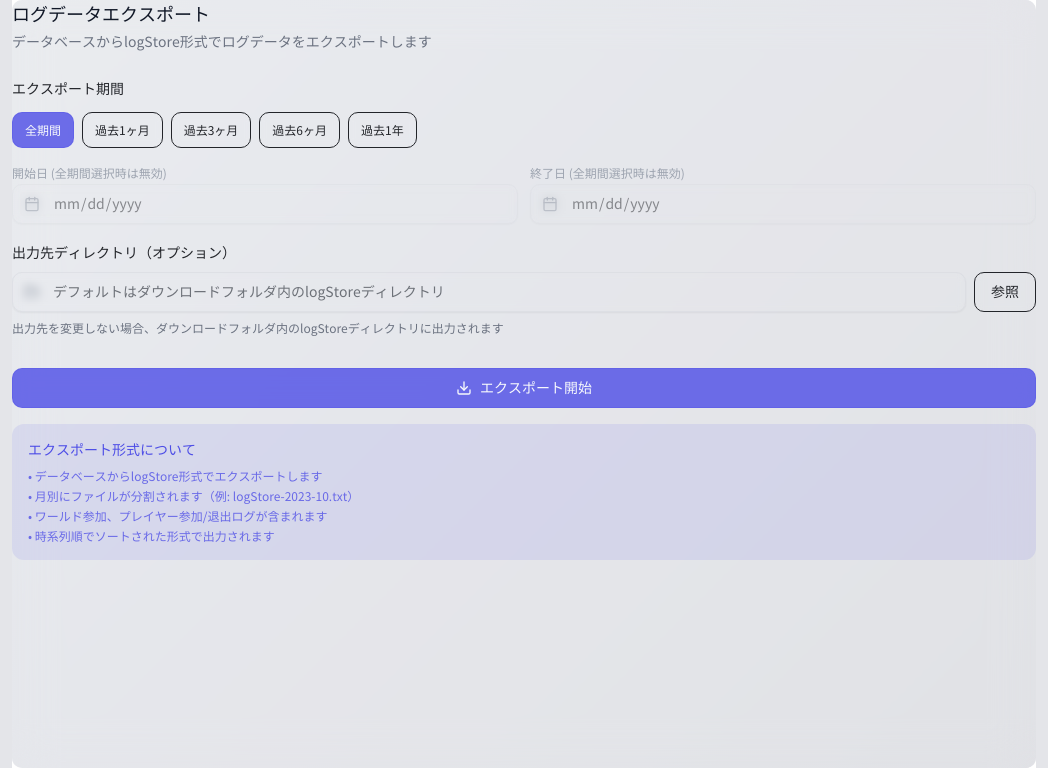
DataExport › 全期間ボタンを再クリックで日付入力が無効化される
Note:  まず期間を選択
Click the button "過去1ヶ月".
click(122, 130)  # box [82,112,163,148]
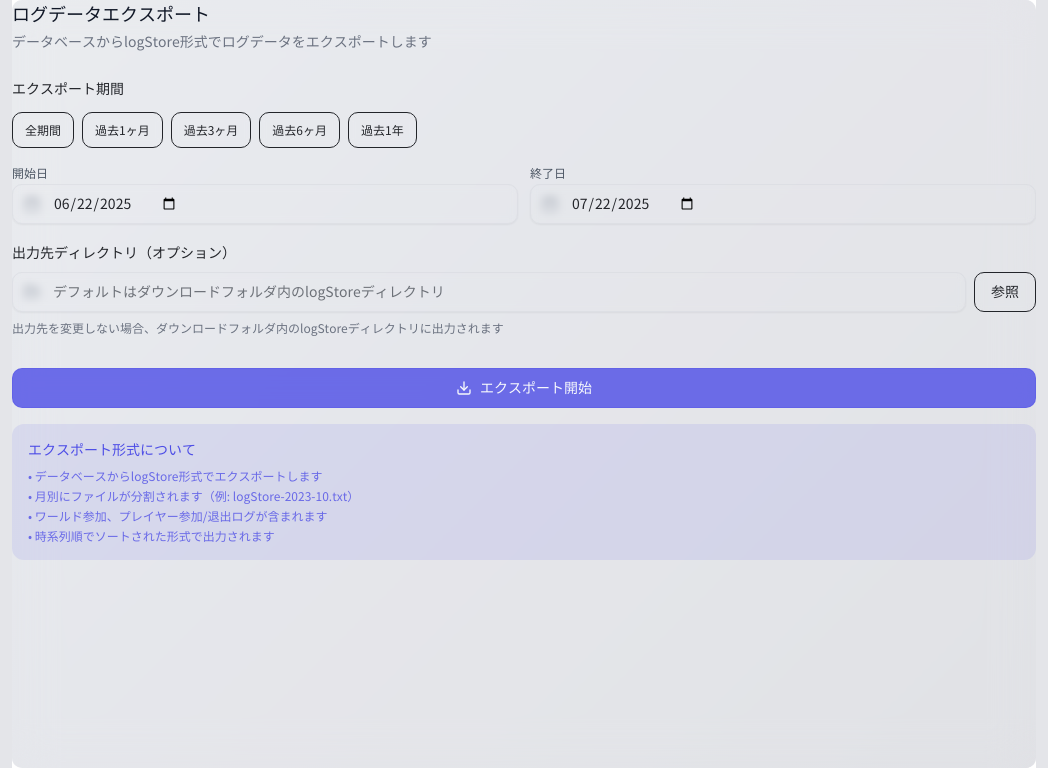
Expected: the date field labelled "開始日" is enabled, [12,184,518,224]
Note: 全期間ボタンをクリック
Click the button "全期間".
click(43, 130)  # box [12,112,74,148]
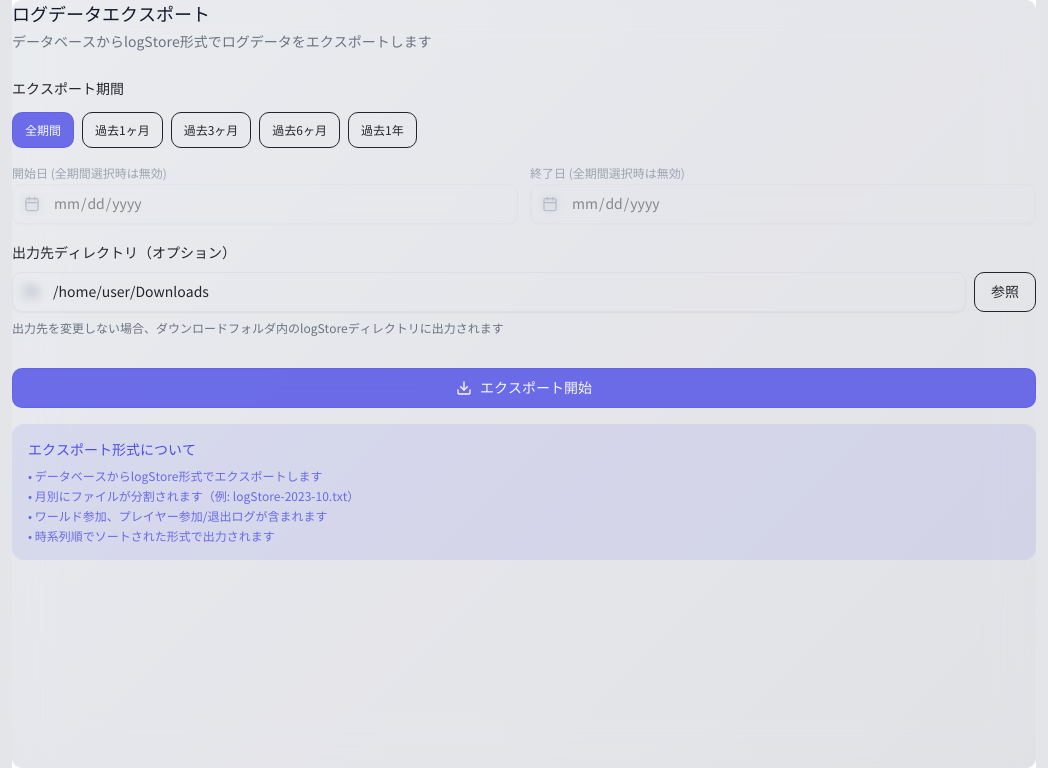
Expected: the date field labelled "開始日 (全期間選択時は無効)" is disabled, [12,184,518,224]
Expected: the date field labelled "開始日 (全期間選択時は無効)" is empty, [12,184,518,224]
